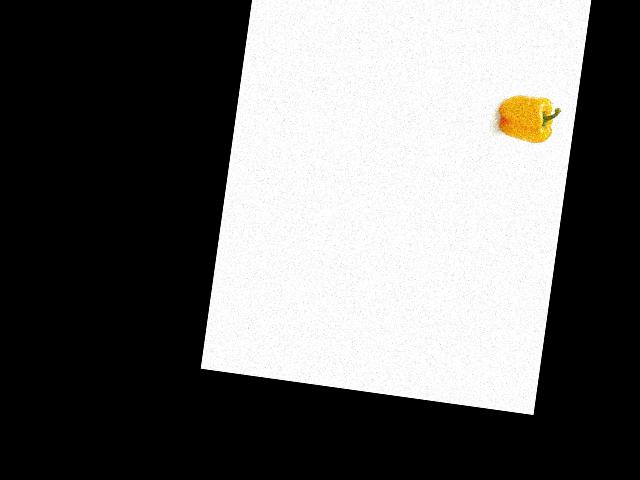bell_pepper: (494, 86, 565, 147)
